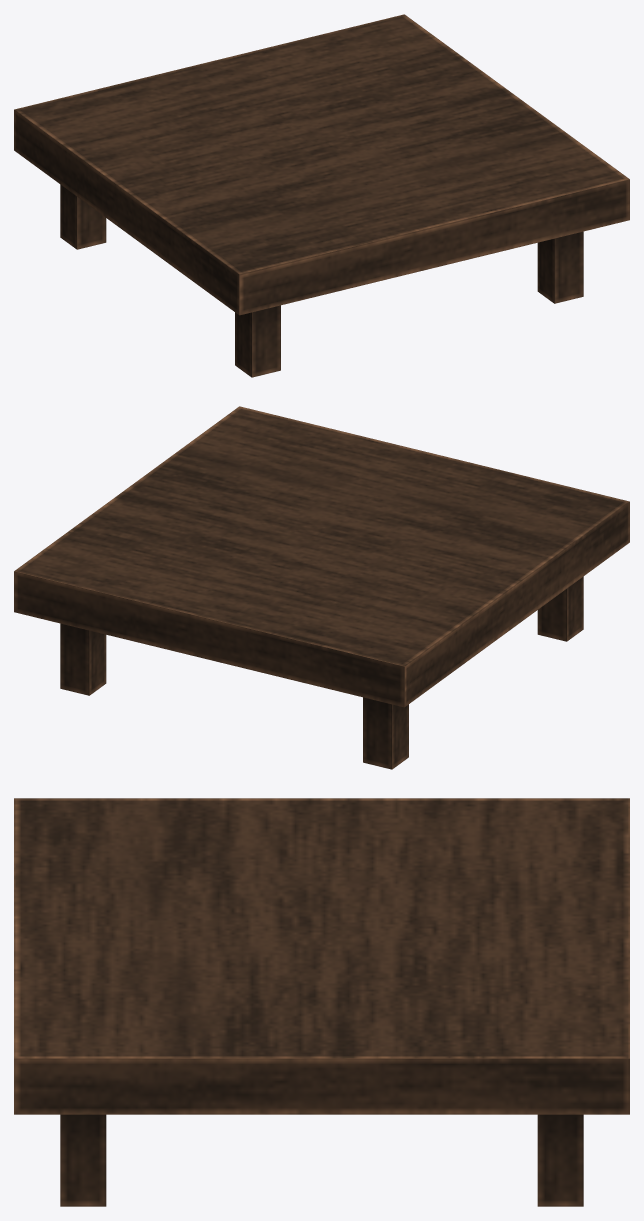
File: dining_table_2x2.fbx
The picture shows the model from 3 angles, top to bottom: view 1: azimuth 30°, elevation 25°; view 2: azimuth 150°, elevation 25°; view 3: azimuth 270°, elevation 25°; orthographic projection. The views are drawn at different scales.
Visible parts, largest first — view 1: dining_table_2x2; view 2: dining_table_2x2; view 3: dining_table_2x2.
Part boxes in pixels (x1,y1,x2,y2): dining_table_2x2: (14, 14, 629, 377); dining_table_2x2: (14, 406, 629, 769); dining_table_2x2: (14, 798, 629, 1206).
Size of the model in its own units: 200 by 60 by 200.
